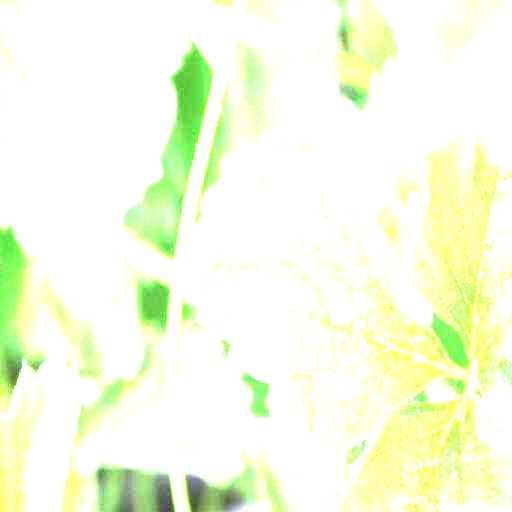Powdery Mildew Leaf: (184, 149, 455, 462), (0, 350, 82, 511)
